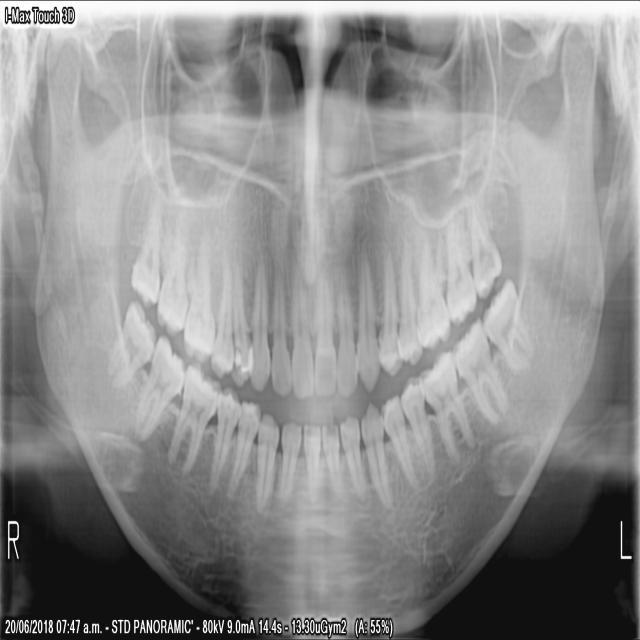LCD: (357, 400, 394, 511)
LCU: (354, 240, 381, 395)
LID: (337, 412, 367, 505), (320, 420, 342, 515)
LIU: (334, 251, 358, 399), (311, 255, 335, 399)
LMD: (414, 343, 476, 470), (450, 310, 505, 429), (480, 269, 535, 371)
LMU: (413, 237, 452, 351), (442, 215, 478, 326), (466, 204, 502, 301)
LPMD: (377, 385, 423, 494), (397, 368, 436, 486)
LPMU: (374, 240, 403, 380), (392, 242, 423, 369)
RCD: (254, 410, 279, 518)
RCU: (246, 255, 271, 394)
RID: (276, 419, 303, 507), (301, 421, 319, 512)
RIU: (289, 251, 314, 402), (269, 263, 291, 400)
RMD: (163, 360, 222, 475), (132, 329, 185, 439), (104, 296, 154, 385)
RMU: (181, 236, 215, 364), (153, 229, 189, 338), (127, 210, 161, 313)
RPMD: (205, 383, 241, 500), (224, 397, 263, 498)
RPMU: (228, 257, 254, 388), (208, 258, 234, 379)
